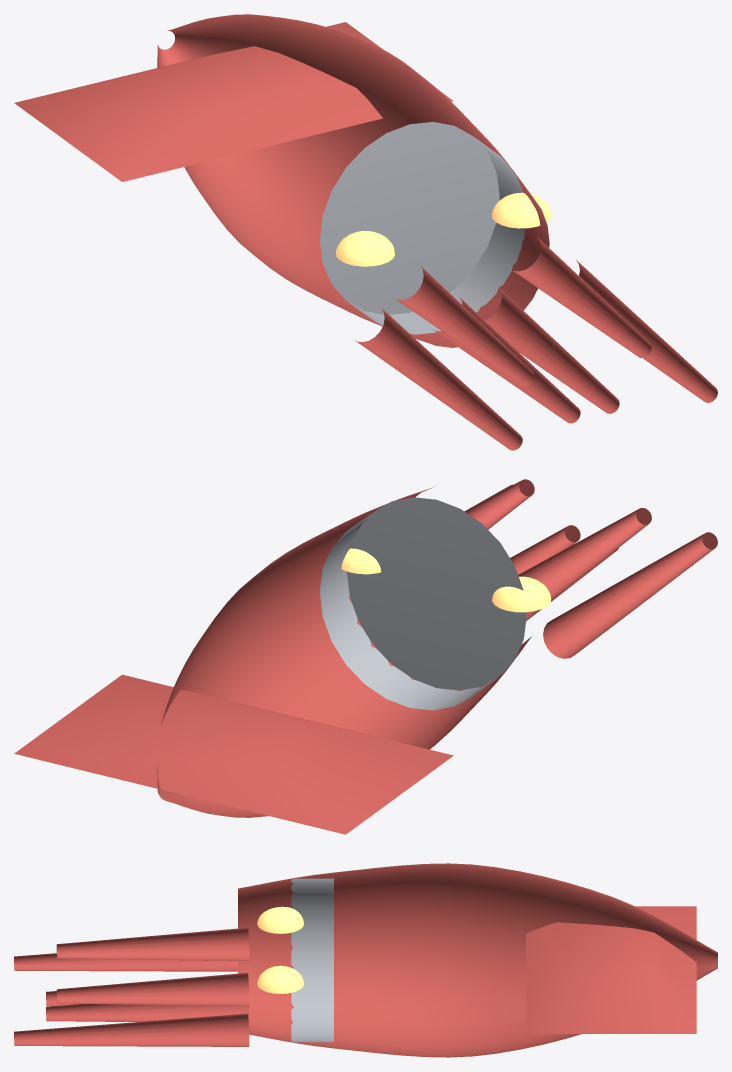
File: sqd.glb
3 renders of one model, top to bottom at view 1: azimuth 30°, elevation 25°; view 2: azimuth 150°, elevation 25°; view 3: azimuth 270°, elevation 25°, orthographic. The views are drawn at different scales.
Parts seen in each view (by area): view 1: Hull; view 2: Hull; view 3: Hull, Turret.
Part boxes in pixels (x1,y1,x2,y2): Hull: [14, 14, 717, 450]; Hull: [14, 479, 717, 834]; Hull: [14, 866, 717, 1057]; Turret: [295, 863, 541, 878].
Size of the model in its own units: 1.02 by 0.6552 by 2.38.
